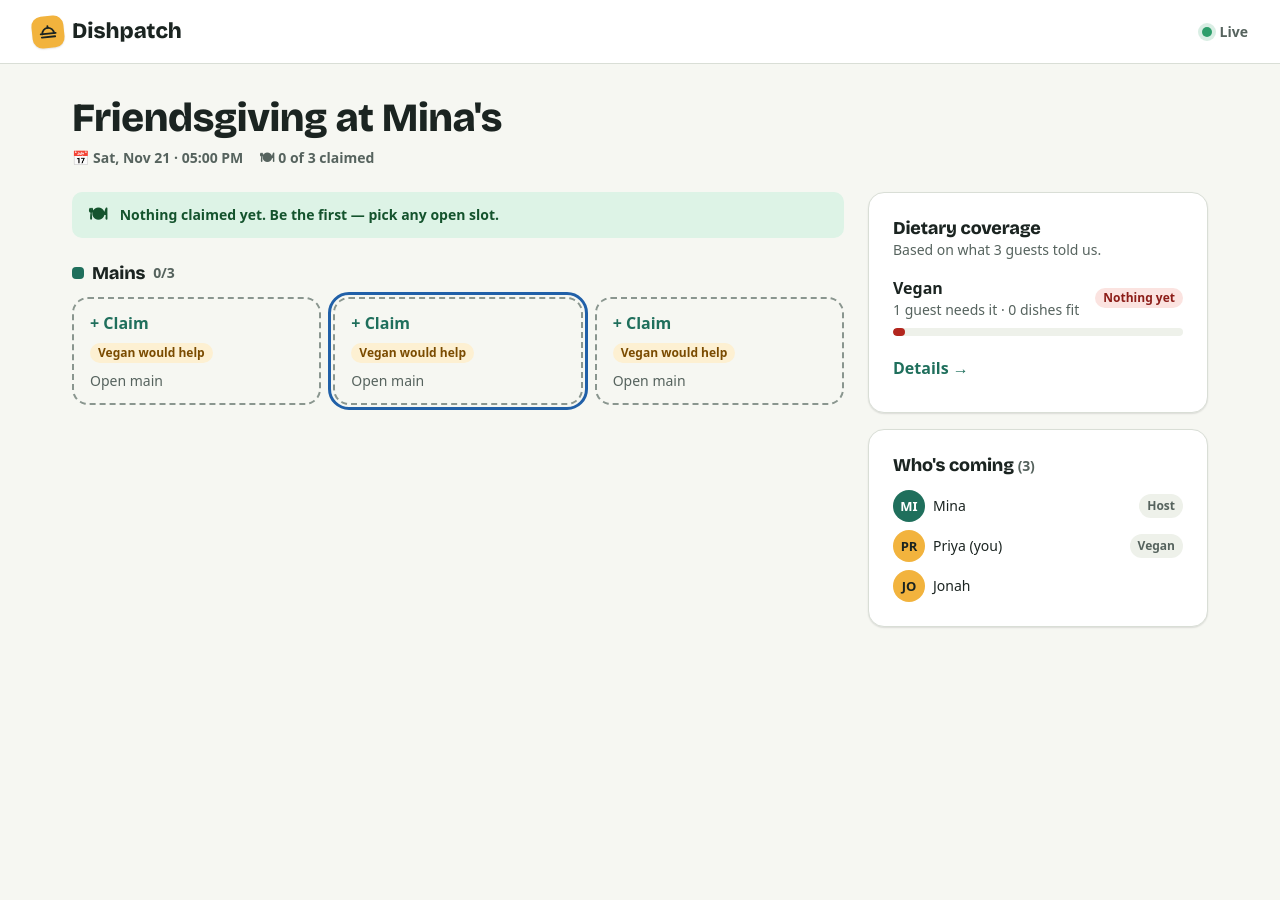
Scenario: ClaimDialog › traps focus and returns it to the slot on close
Click the button with aria-label "Claim open Mains slot 2".
click(458, 351)  # box [333,297,583,405]
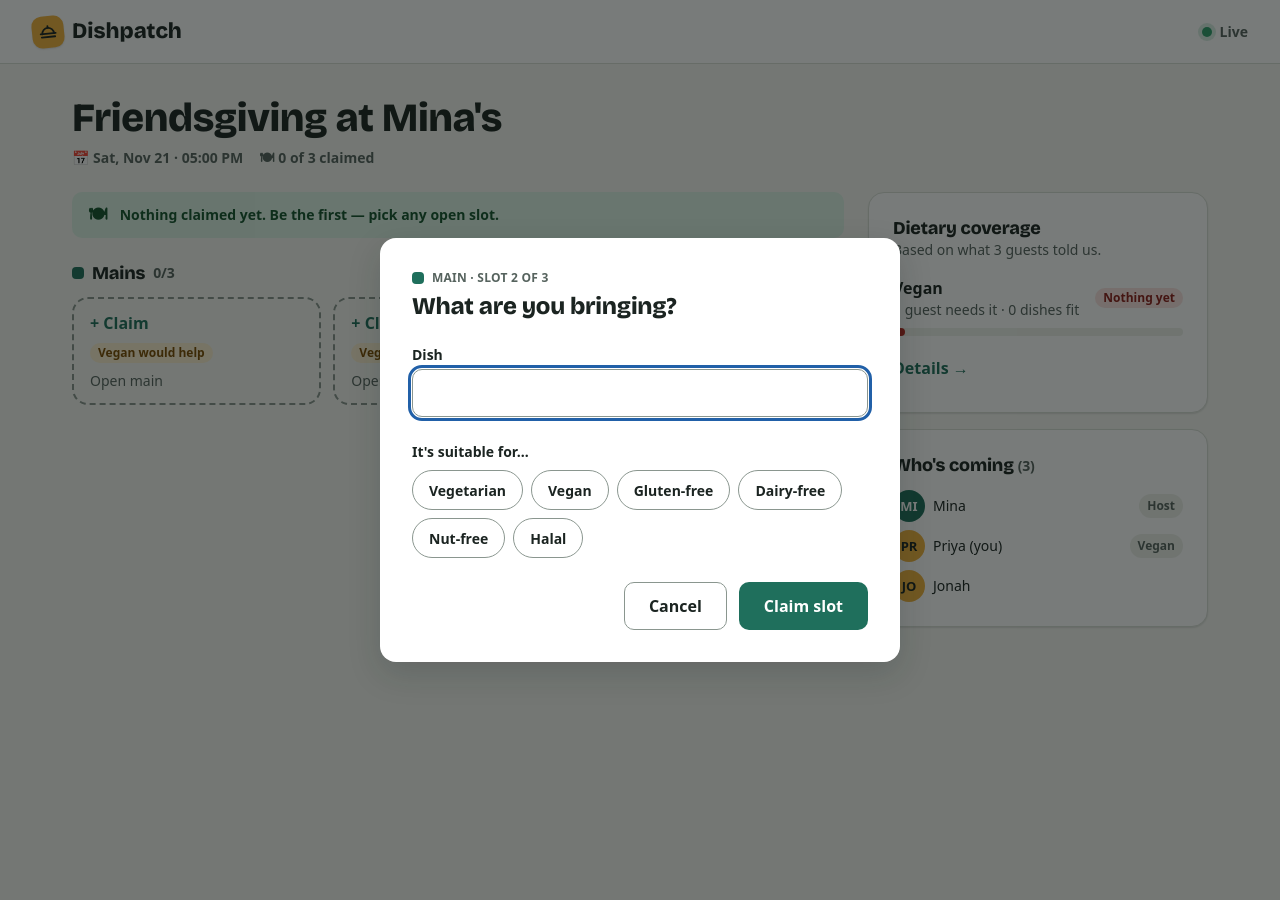
Expected: the text "main · slot 2 of 3" is shown, [412,269,548,286]
Press Tab
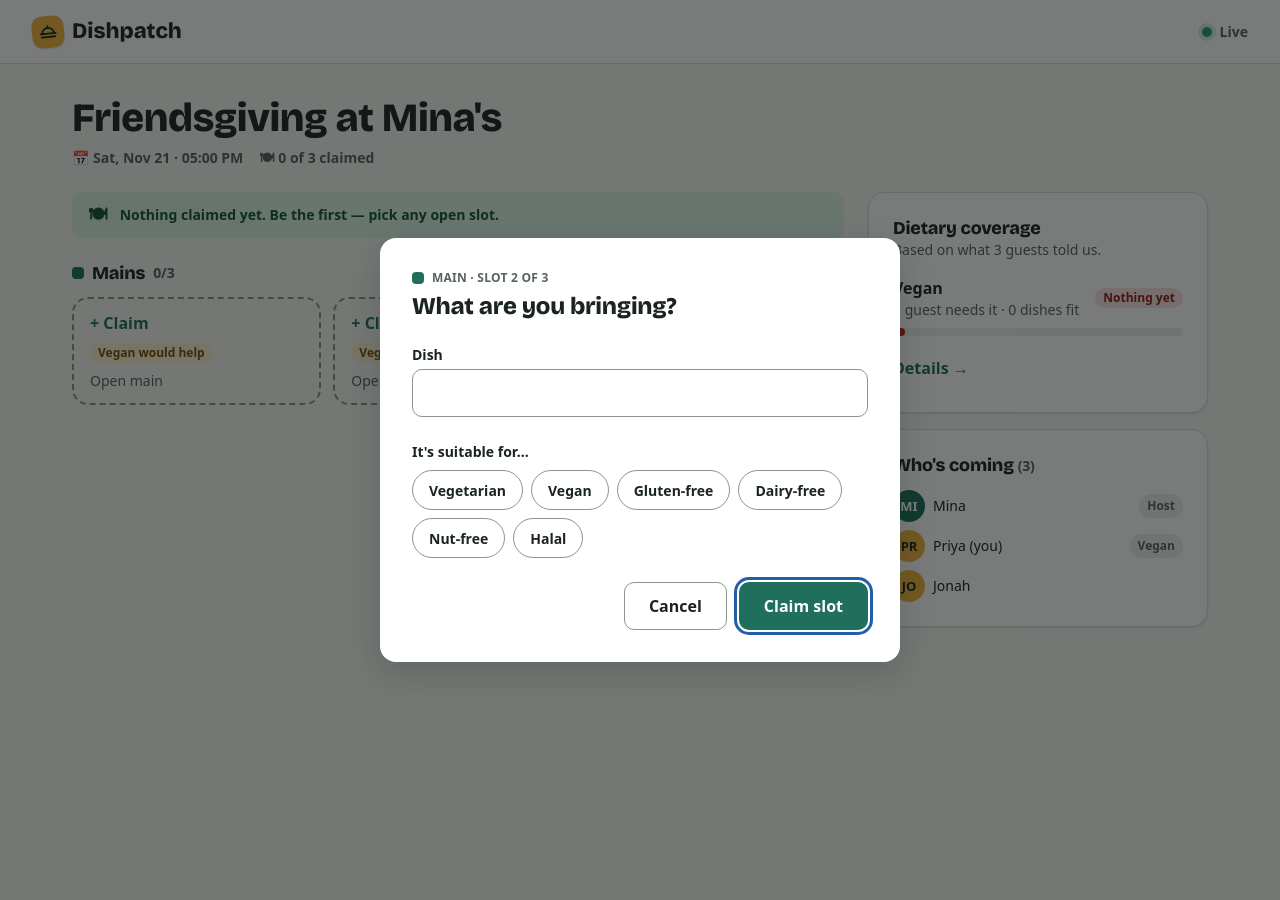
Press Tab
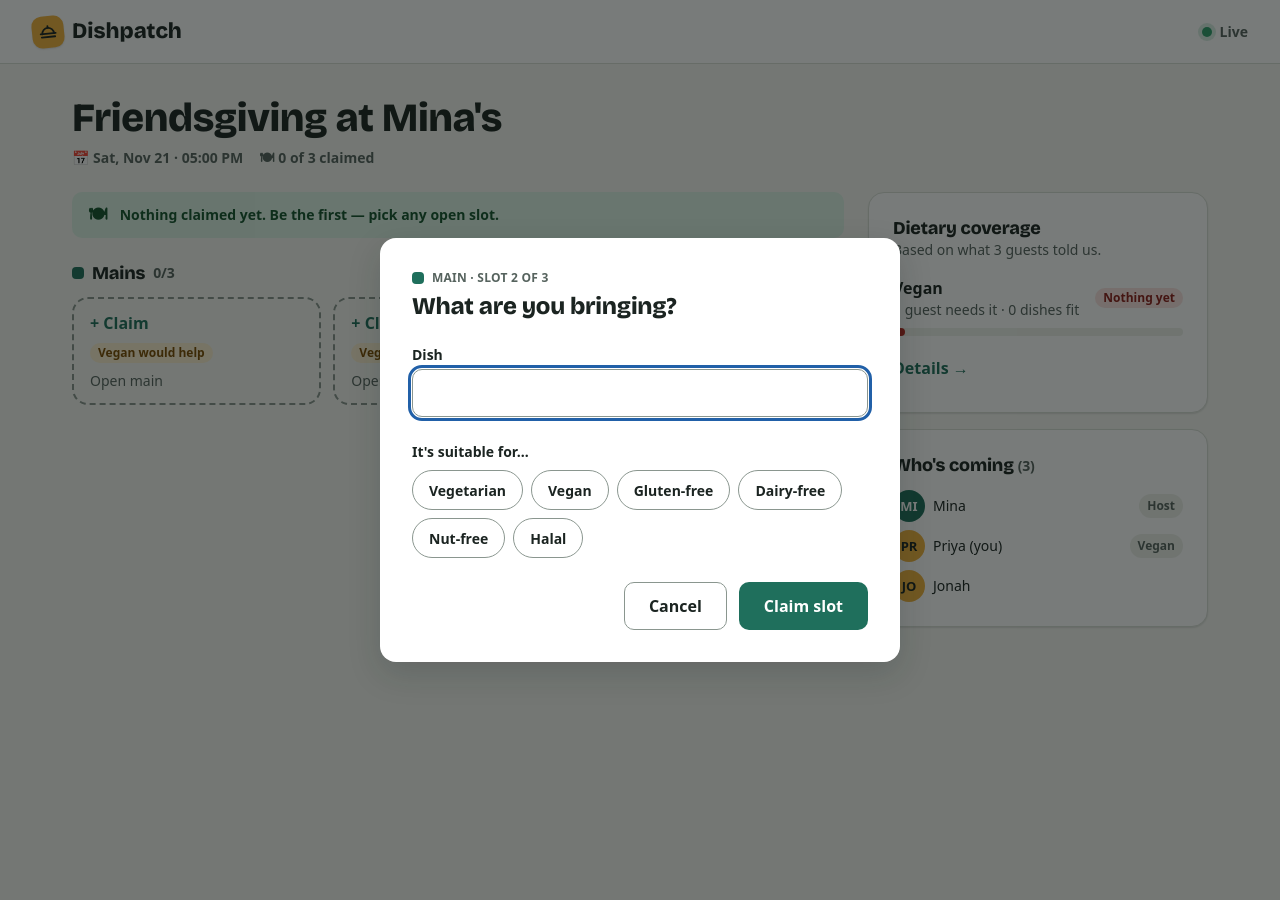
Press Escape
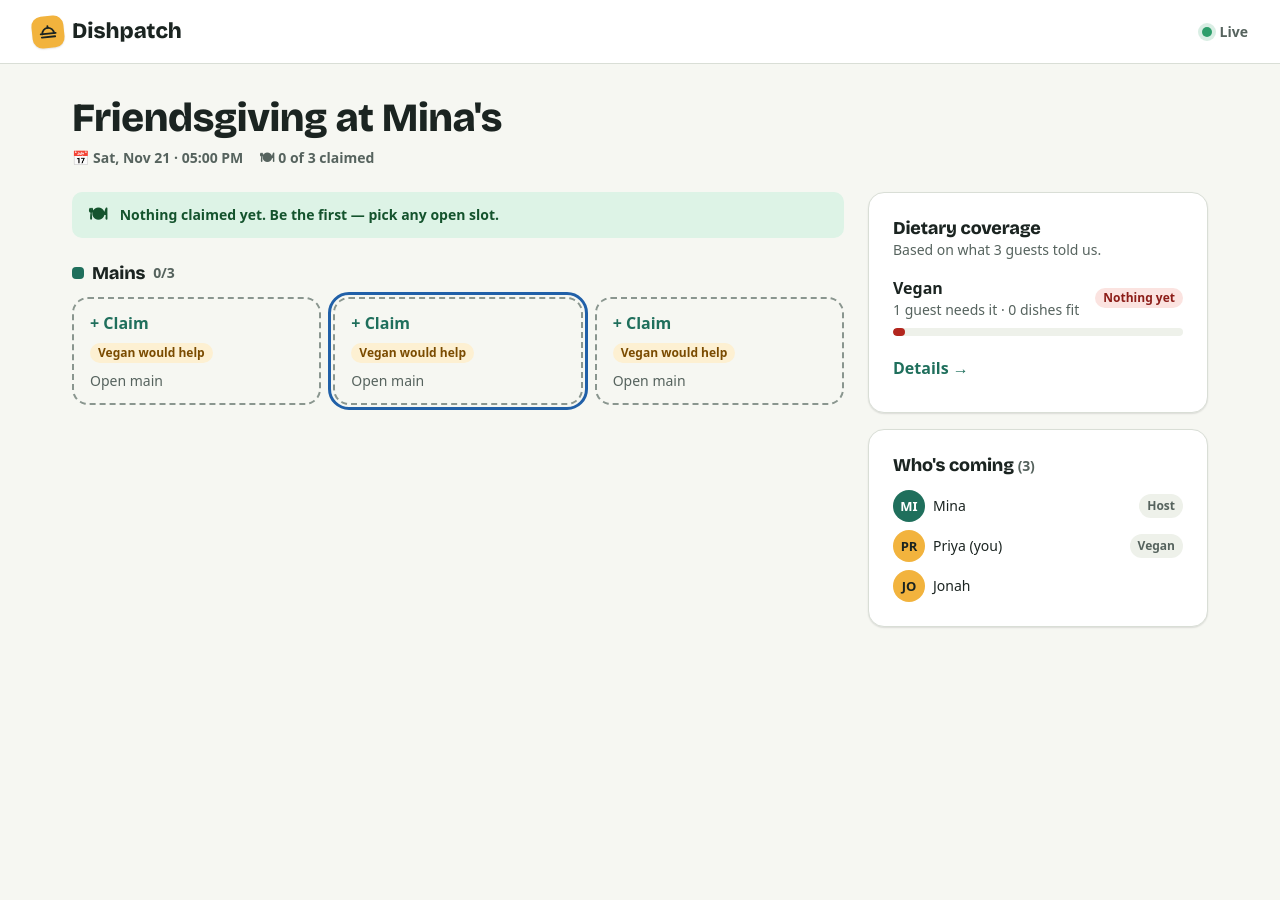
Expected: the dialog is gone
